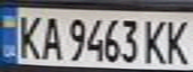3: (118, 16, 142, 64)
4: (84, 15, 106, 62)
6: (103, 16, 124, 63)
9: (63, 14, 87, 62)
A: (36, 12, 63, 61)
K: (12, 11, 45, 61), (160, 16, 193, 65), (139, 16, 169, 65)
